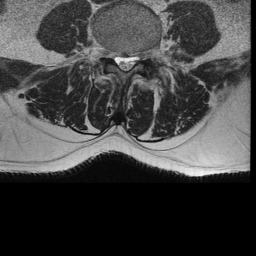CCS_normal: (121, 45, 128, 77)
LFS_normal: (138, 42, 147, 66)
LLS_normal: (128, 45, 138, 73)
RFS_normal: (105, 39, 114, 66)
RLS_normal: (114, 44, 121, 73)
